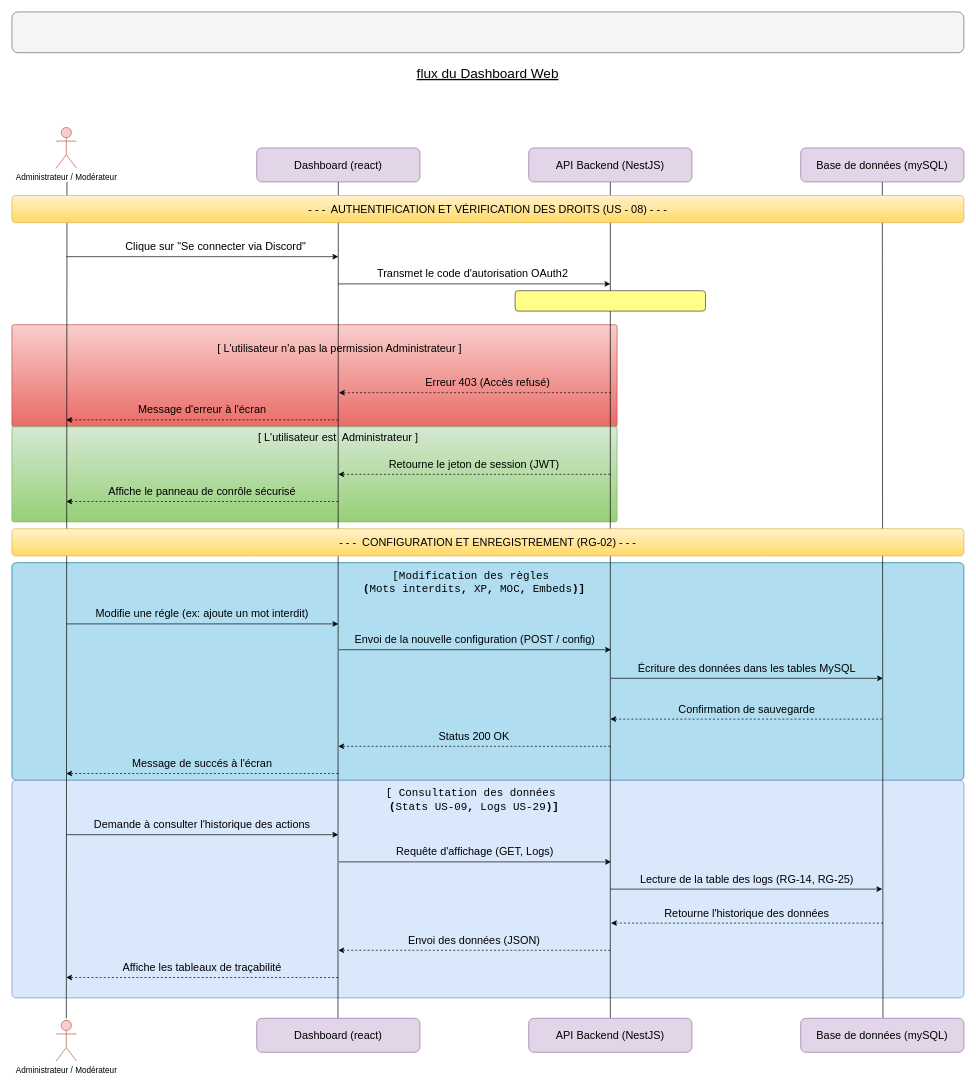
Some shapes in this 976 by 1087 pixel diagram are drawn without their labels. Each missing label, with the centre of its shape:
"Diagramme de séquence (Partie 1)" belongs at pixel 487 32.
"Verifie les droits d'admin (RG-01)" belongs at pixel 610 300.
